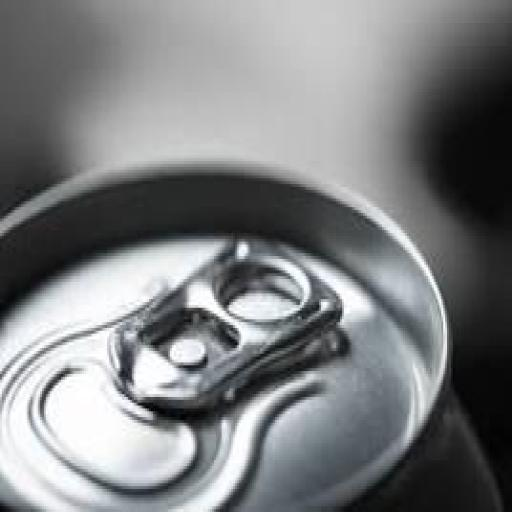can: (0, 158, 504, 512)
pop tab: (104, 233, 344, 419)
